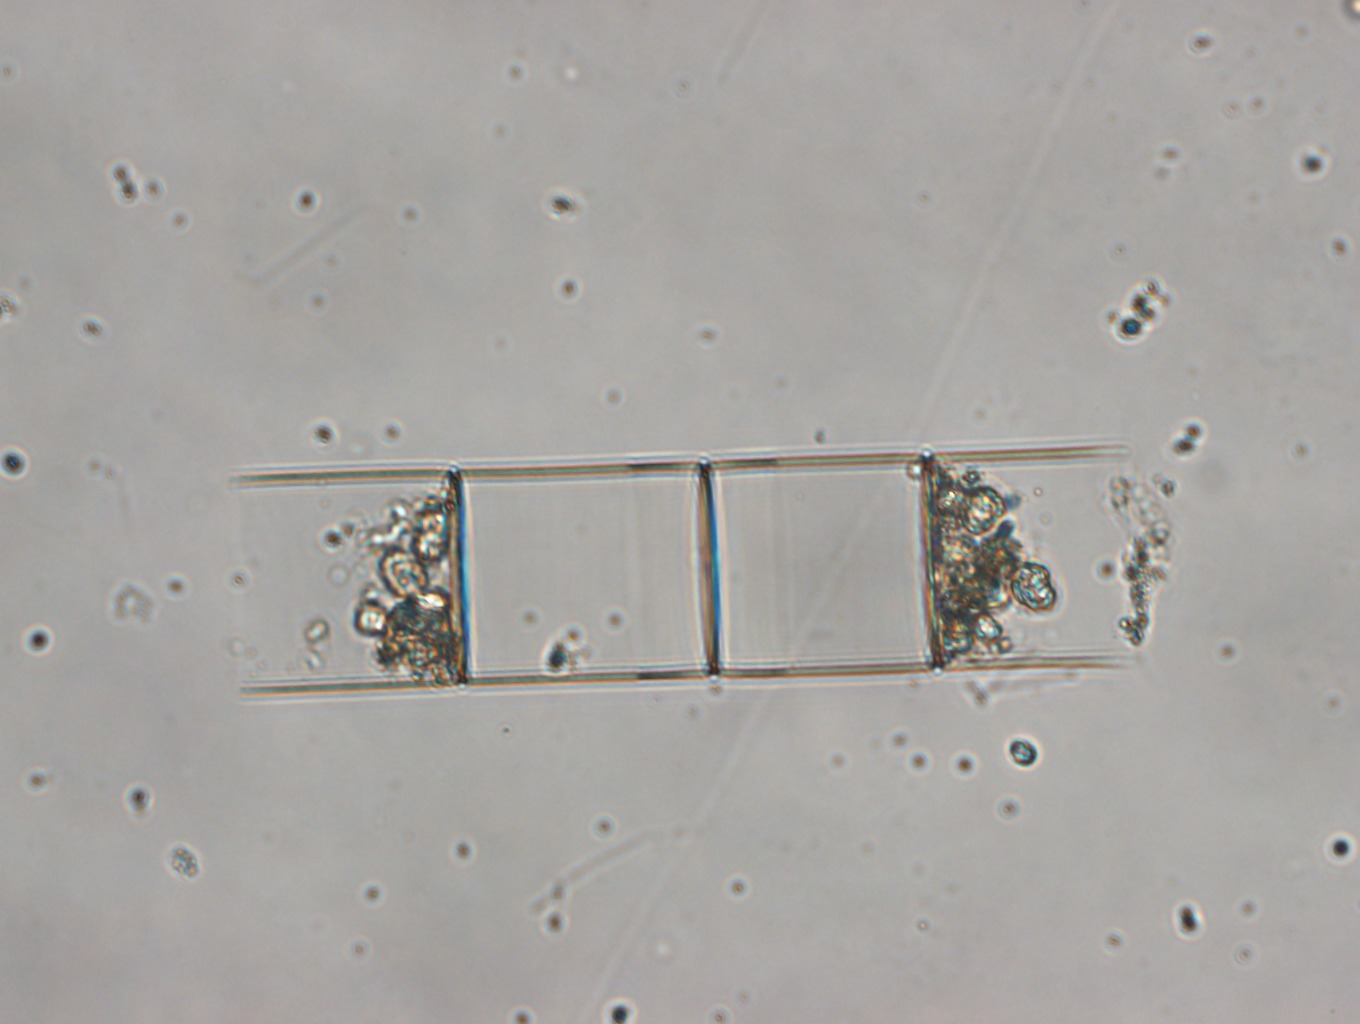guinardia flaccida: (229, 441, 1134, 694)
